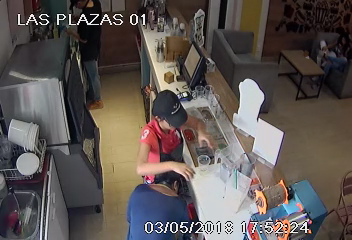ocupado: (217, 20, 352, 106)
